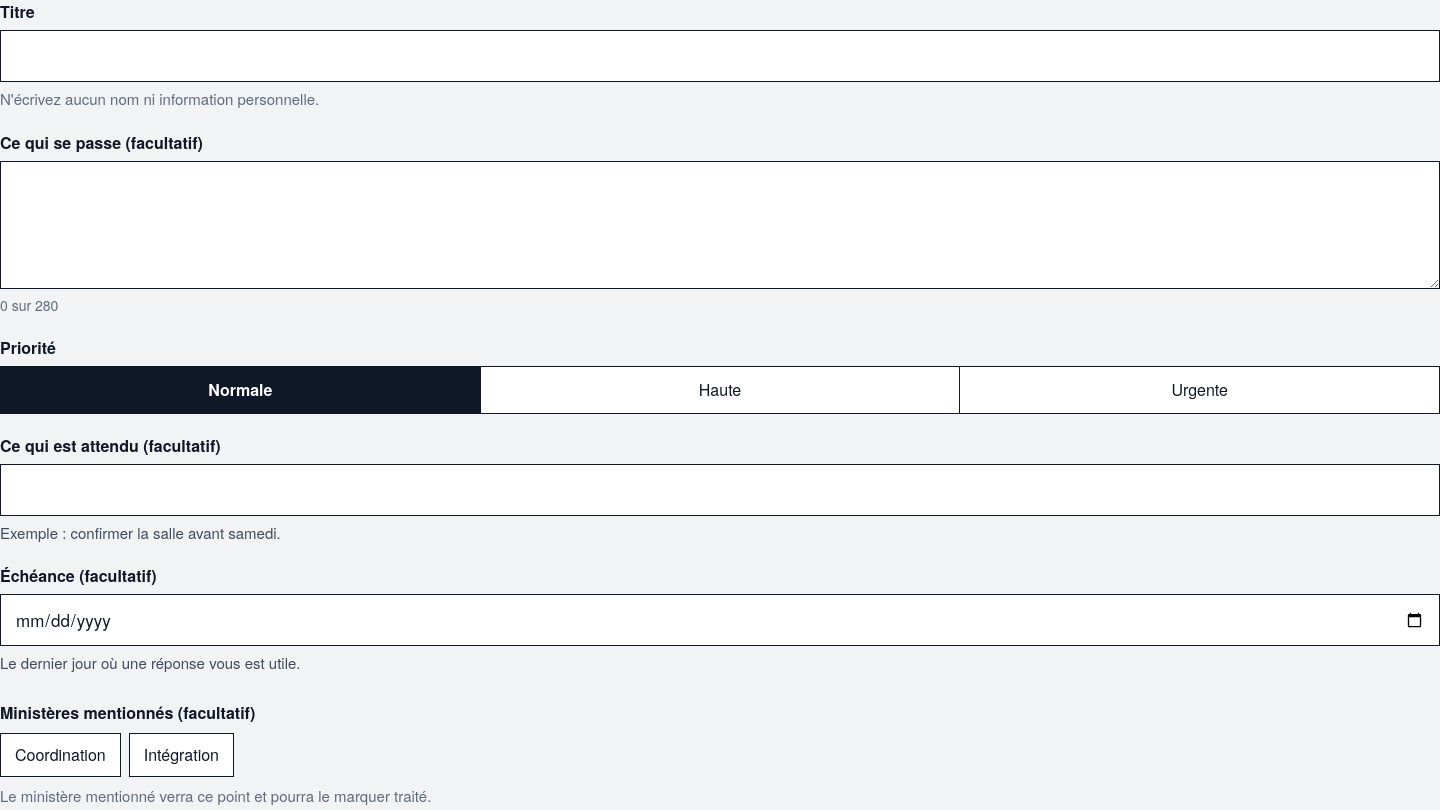
Test case: « Nouveau point » (maquette 10) › refus inconnu de la base : le repli sous le bouton, jamais le texte brut ; connexion perdue : valeurs gardées
Type "  Salle pour la soirée de louange " into the field labelled "Titre".
click(720, 56); type("  Salle pour la soirée de louange ")  # box [0,30,1439,82]
Type "La salle du 10 octobre n’est pas confirmée." into the text box labelled "Ce qui se passe (facultatif)".
click(720, 224); type("La salle du 10 octobre n’est pas confirmée.")  # box [0,160,1439,288]
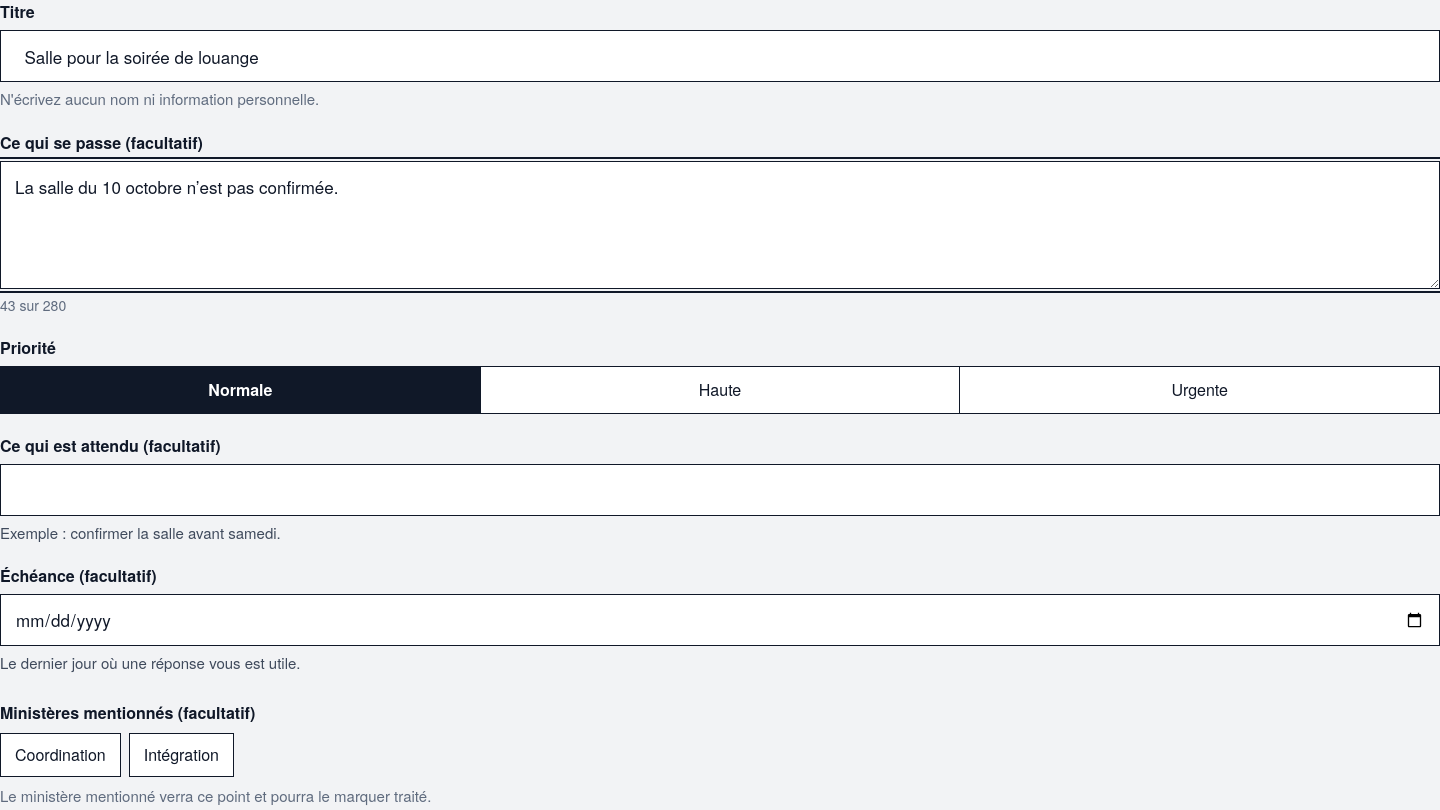
Click the radio button labelled "Haute".
click(720, 390)  # box [480,366,960,414]
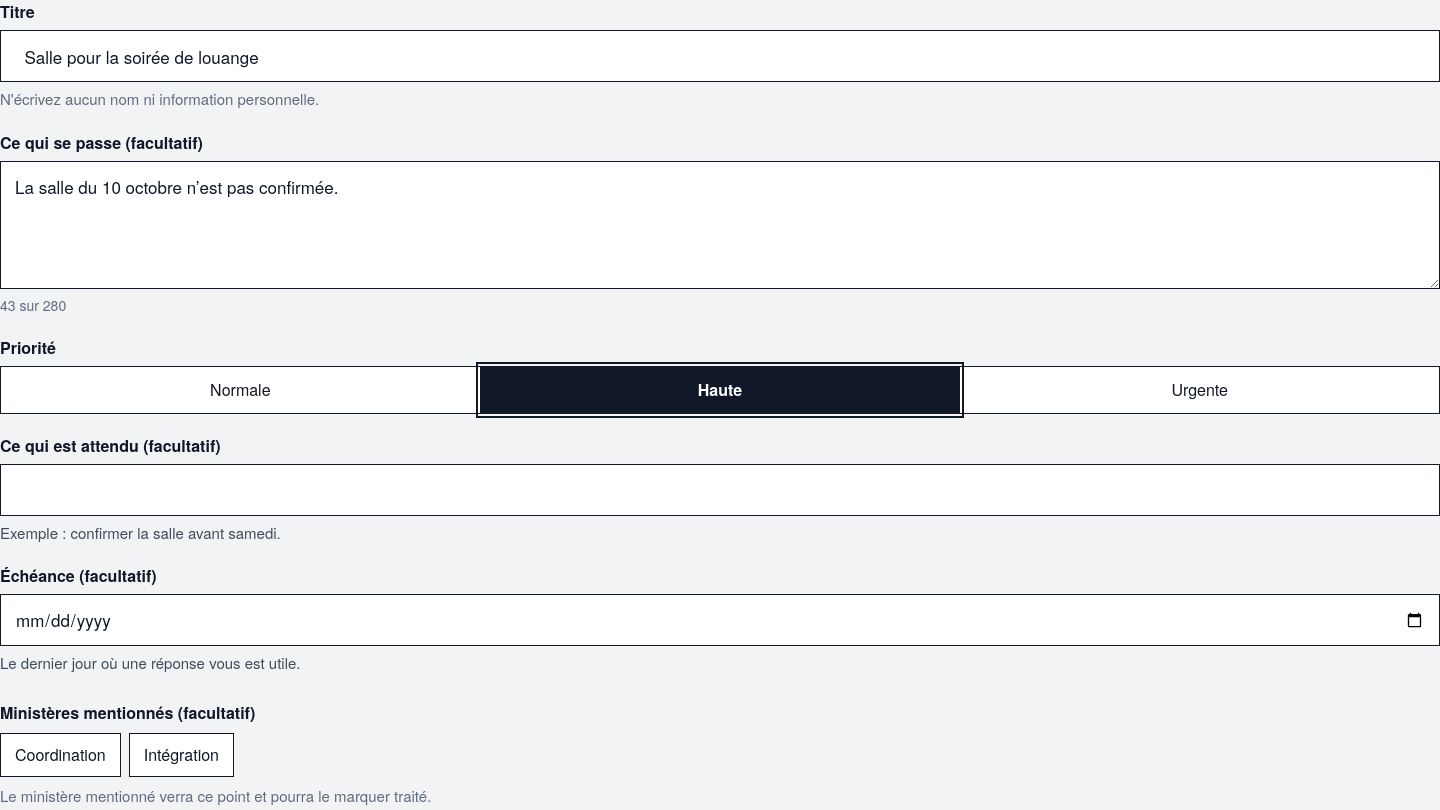
Type "Confirmer" into the field labelled "Ce qui est attendu (facultatif)".
click(720, 490); type("Confirmer")  # box [0,464,1439,516]
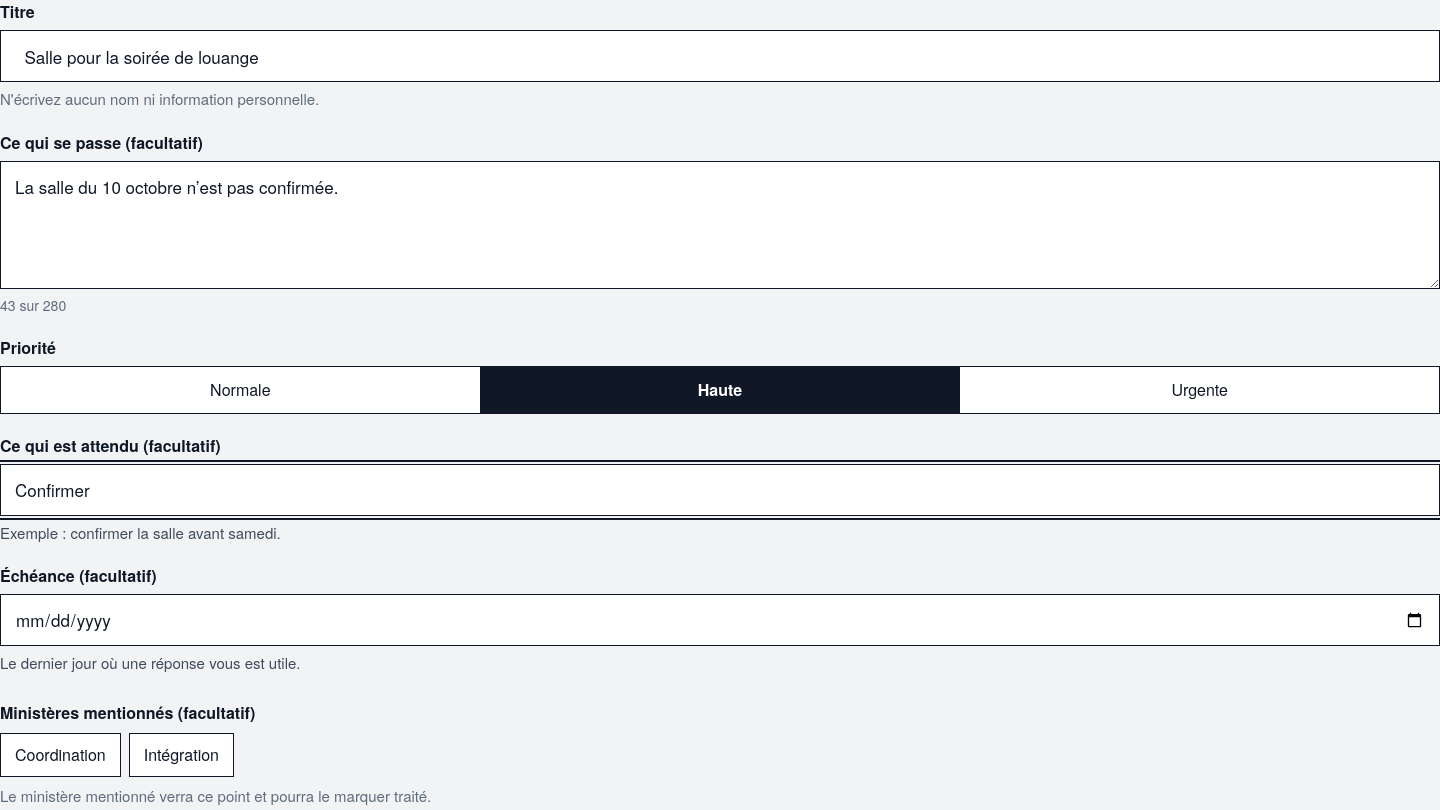
Click the checkbox labelled "Coordination".
click(60, 754)  # box [0,732,121,776]
(page scrolled)
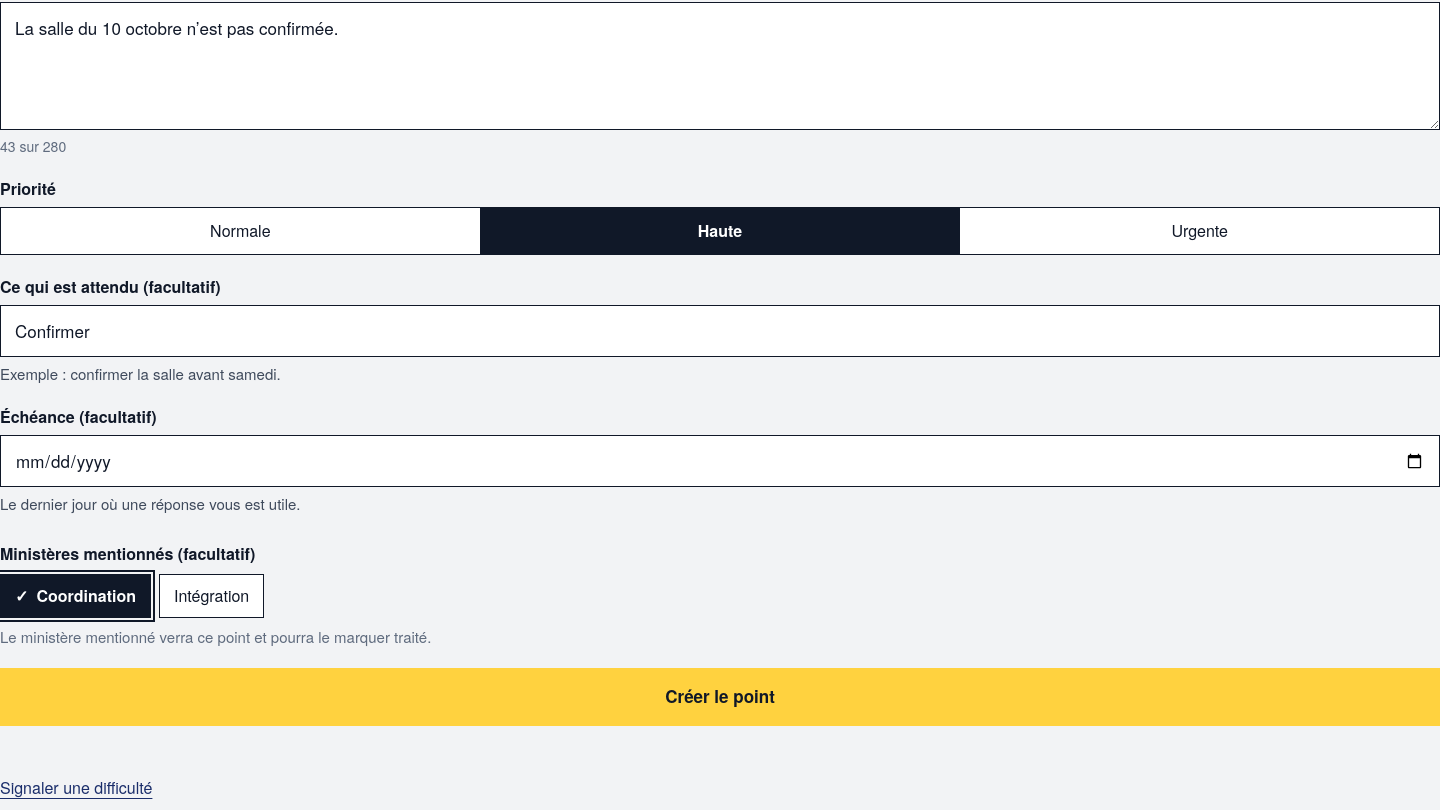
Click the button named "Créer le point".
click(720, 697)  # box [0,668,1439,726]
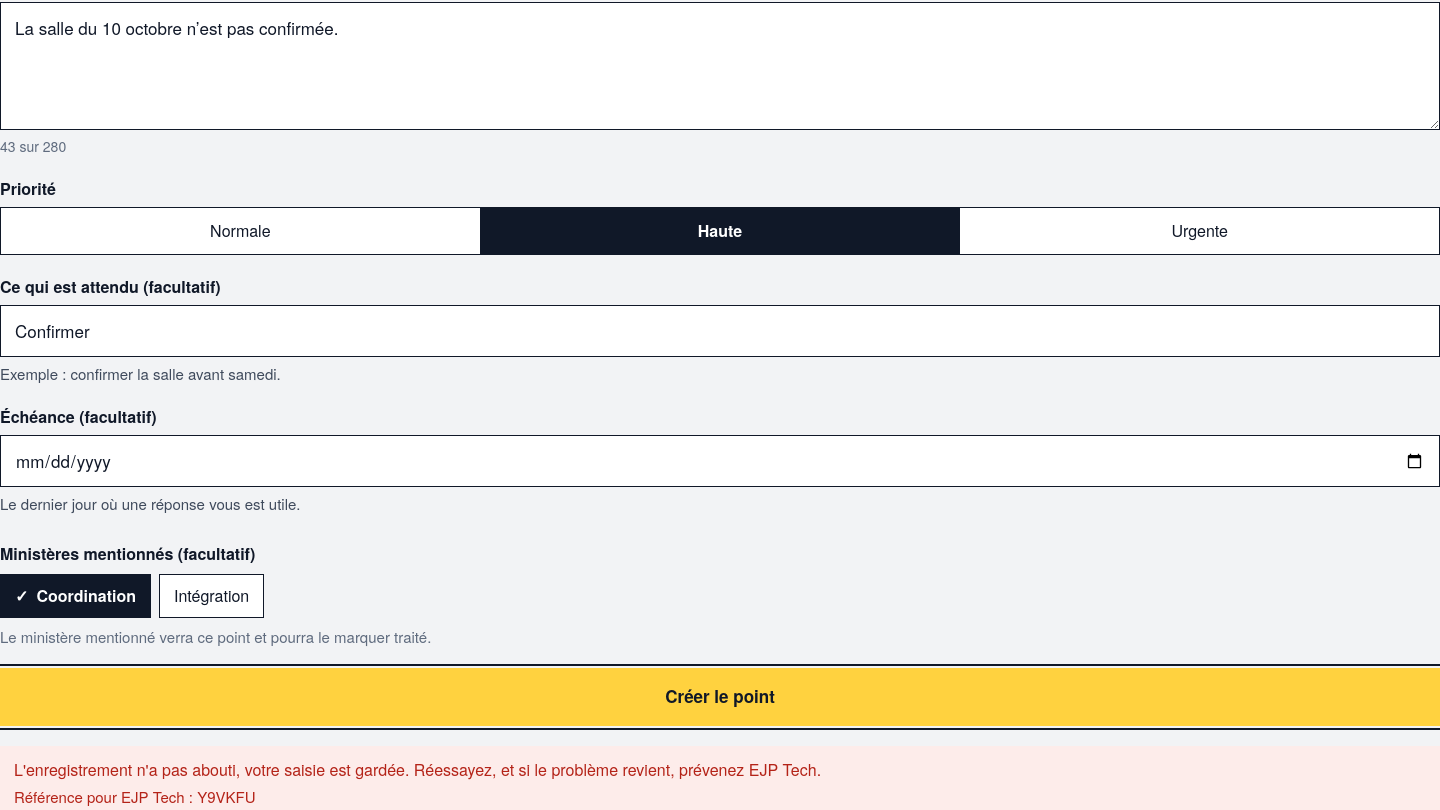
Expected: the message shows "L'enregistrement n'a pas abouti, votre saisie est gardée. Réessayez, et si le problème revient, prévenez EJP Tech.", [14,758,821,781]
Click the button named "Créer le point".
click(720, 697)  # box [0,668,1439,726]
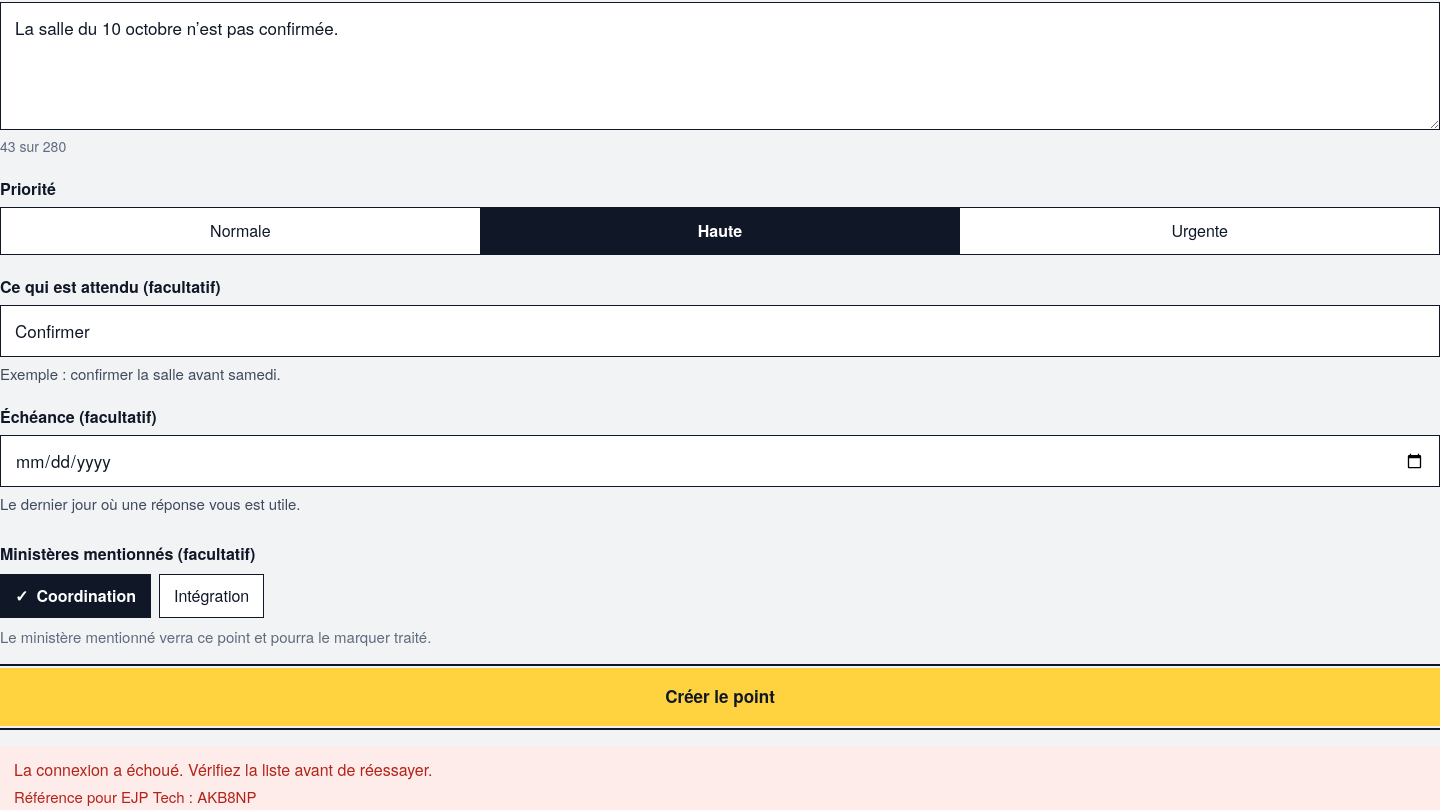
Expected: the radio button labelled "Haute" is checked, [480,206,960,254]
Expected: the checkbox labelled "Coordination" is checked, [0,574,151,618]
Expected: the text "La connexion a échoué" shows "La connexion a échoué. Vérifiez la liste avant de réessayer.", [14,758,432,781]
